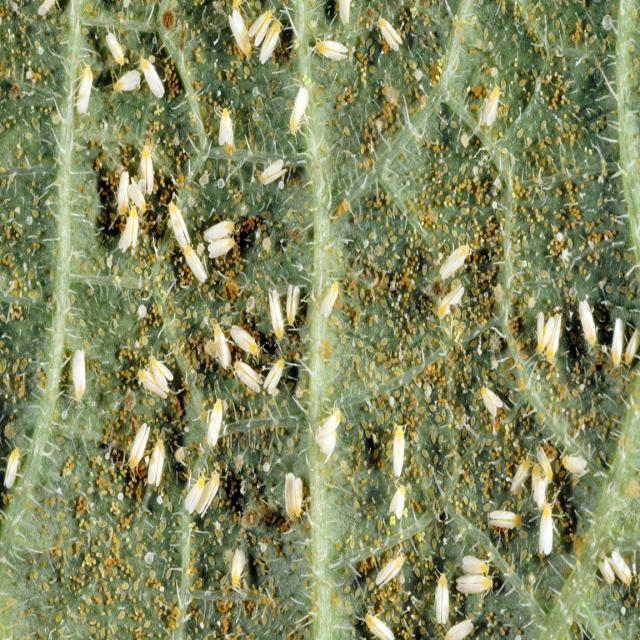Whiteflies: (522, 300, 576, 385), (449, 530, 498, 613), (250, 13, 295, 99), (59, 329, 100, 412), (132, 430, 174, 511), (170, 465, 231, 520), (313, 267, 363, 334), (574, 281, 605, 381), (428, 236, 491, 283), (468, 68, 515, 131), (438, 263, 478, 335), (71, 53, 105, 136), (222, 8, 269, 68), (136, 346, 186, 402), (270, 263, 306, 340), (596, 306, 630, 387), (201, 390, 239, 458), (496, 436, 533, 504), (310, 386, 344, 459), (114, 163, 151, 230), (388, 399, 418, 479), (179, 233, 221, 289), (201, 217, 244, 271), (258, 339, 296, 399), (436, 583, 476, 640), (309, 35, 359, 80), (253, 279, 290, 339), (359, 601, 415, 640), (219, 325, 267, 370), (469, 364, 505, 424), (520, 463, 563, 513), (164, 190, 199, 250), (110, 67, 161, 108), (248, 147, 294, 192), (371, 539, 415, 586), (486, 499, 529, 547), (200, 304, 229, 372), (204, 99, 239, 154), (427, 550, 453, 623), (231, 363, 273, 408), (139, 44, 174, 98), (373, 20, 416, 62), (120, 414, 154, 467), (113, 210, 147, 261), (533, 511, 565, 563), (284, 464, 314, 516), (285, 76, 313, 130), (104, 29, 136, 68), (231, 539, 250, 581)
